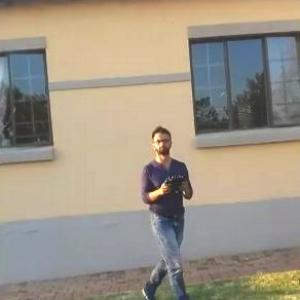follow: (144, 117, 210, 299)
